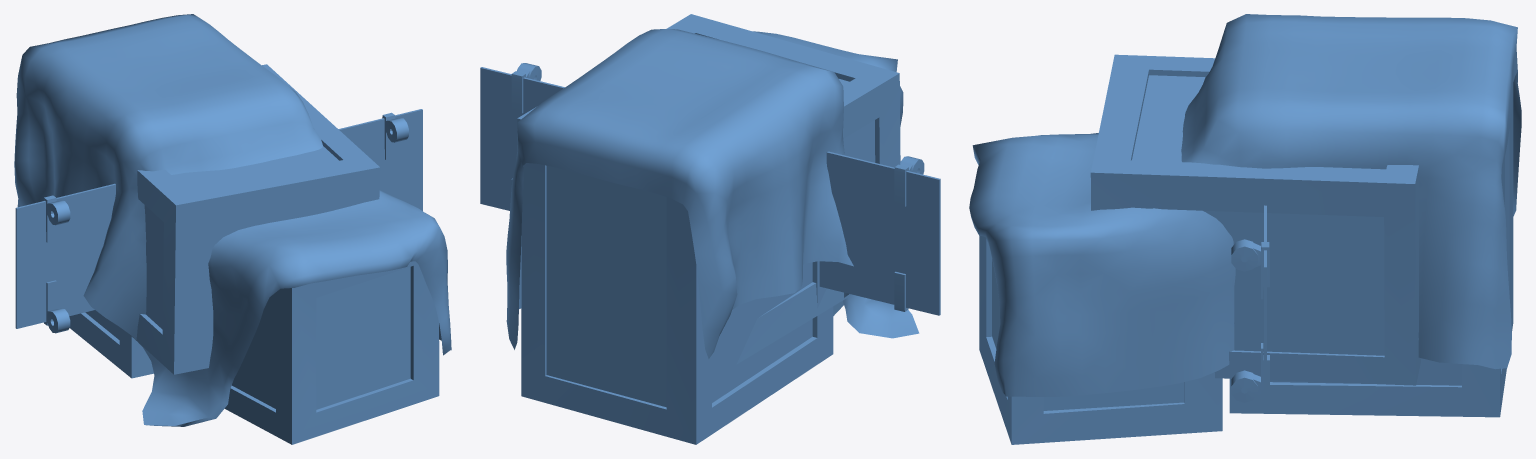
The model's file is Props.fbx.
3 renders of one model, left to right at view 1: azimuth 30°, elevation 25°; view 2: azimuth 150°, elevation 25°; view 3: azimuth 270°, elevation 25°, orthographic. The views are drawn at different scales.
Visible parts, largest first — view 1: Cloth, Boxes, Box, Sign; view 2: Cloth, Boxes, Sign, Box; view 3: Cloth, Box, Boxes, Sign.
Part boxes in pixels (x1,y1,x2,y2): Cloth: [14, 14, 451, 426]; Boxes: [69, 261, 439, 444]; Box: [128, 64, 380, 374]; Sign: [15, 109, 422, 333]; Cloth: [506, 28, 919, 358]; Boxes: [521, 163, 843, 444]; Sign: [480, 63, 940, 315]; Box: [517, 14, 900, 364]; Cloth: [969, 14, 1521, 396]; Box: [1090, 54, 1420, 385]; Boxes: [979, 83, 1513, 444]; Sign: [1231, 205, 1269, 413].
Size of the model in its own units: 2.12 by 1.31 by 2.06.
